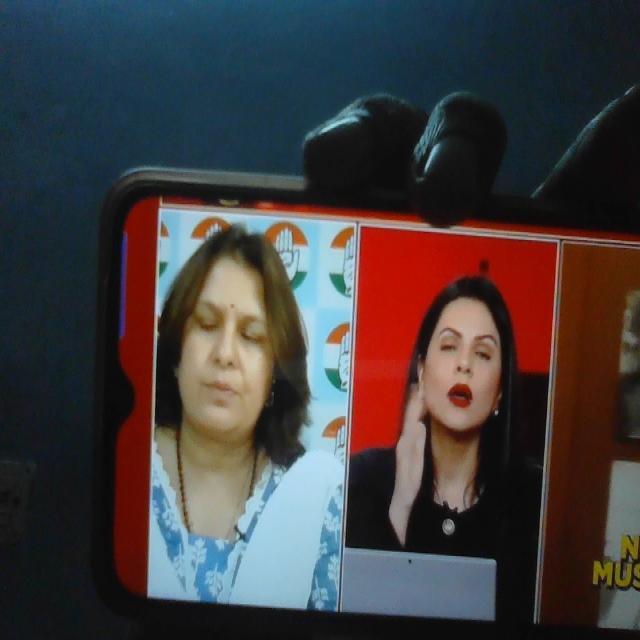fake: (165, 220, 286, 448), (414, 260, 518, 456)
